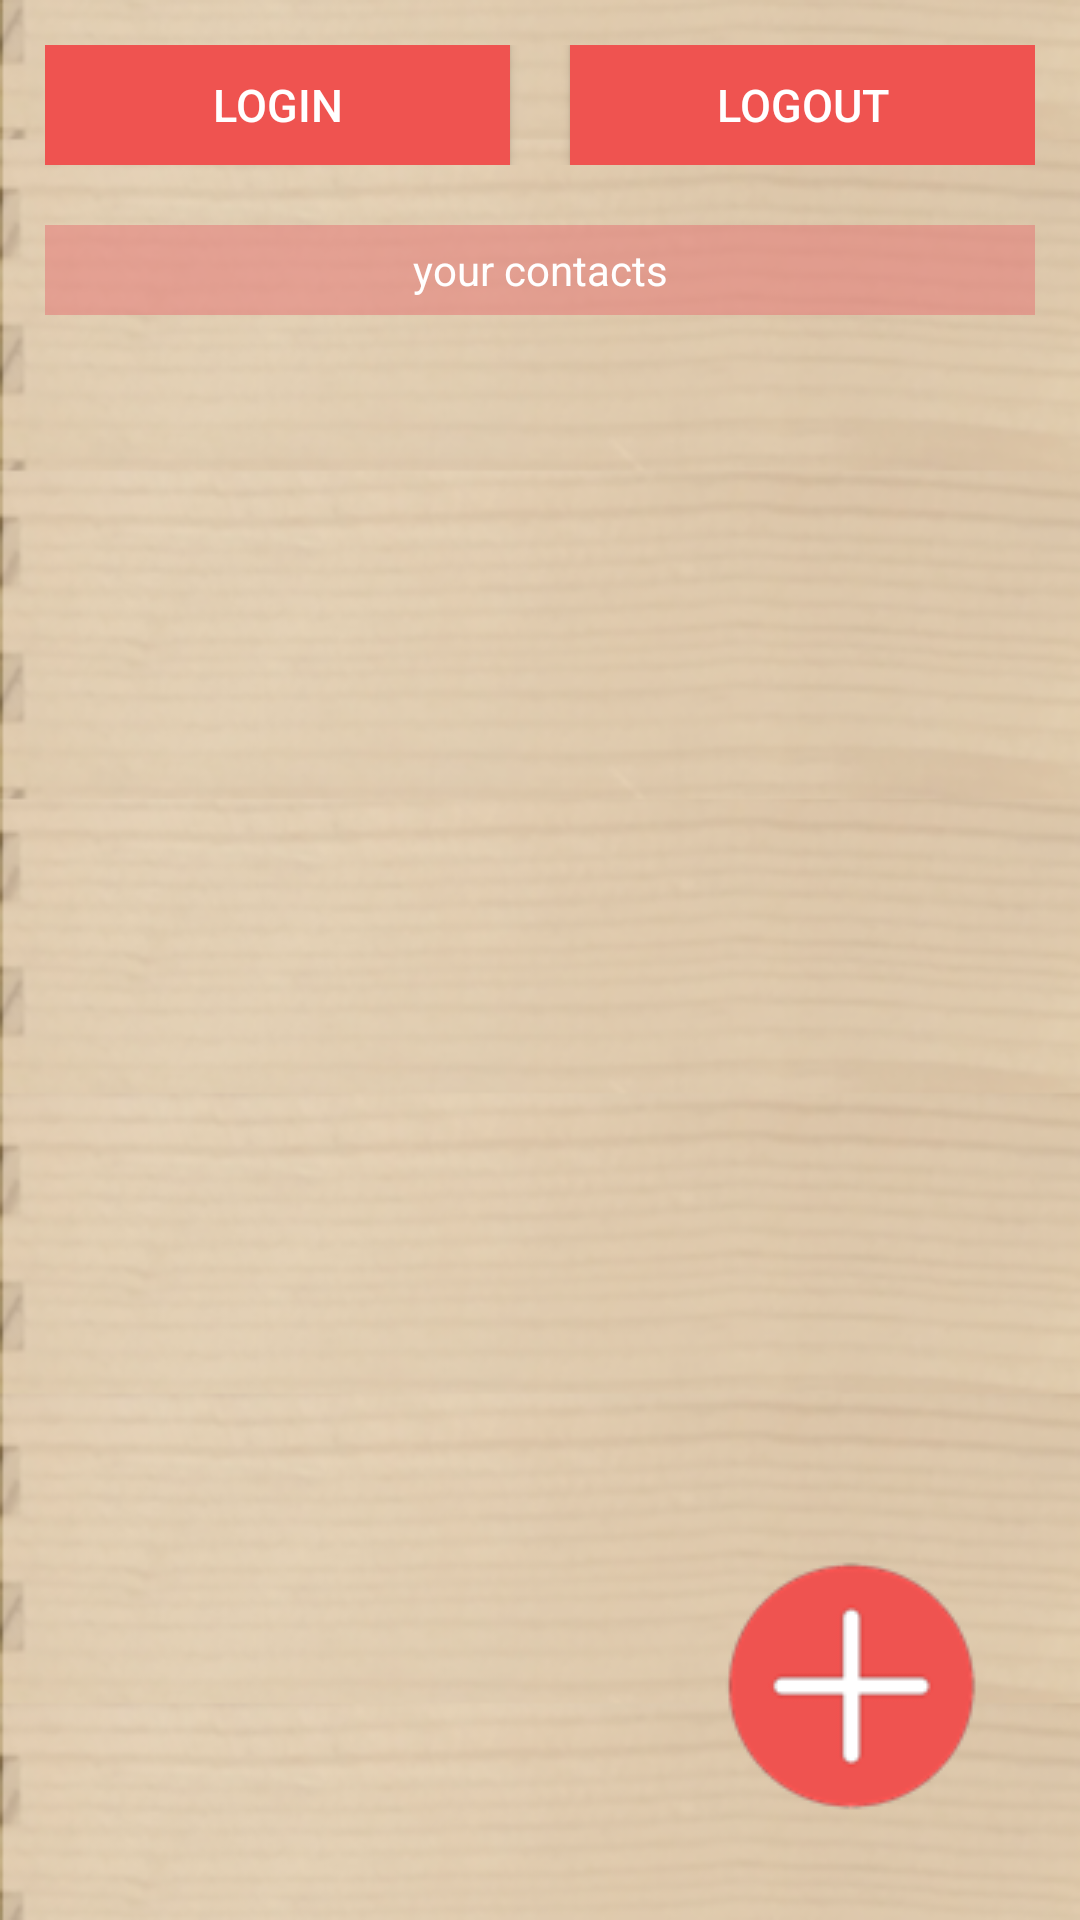

Icons on this 1080px x 1920px Android screen, each with its box as (x1, y1, x2, y2):
addcontacts: (728, 1563, 976, 1809)
